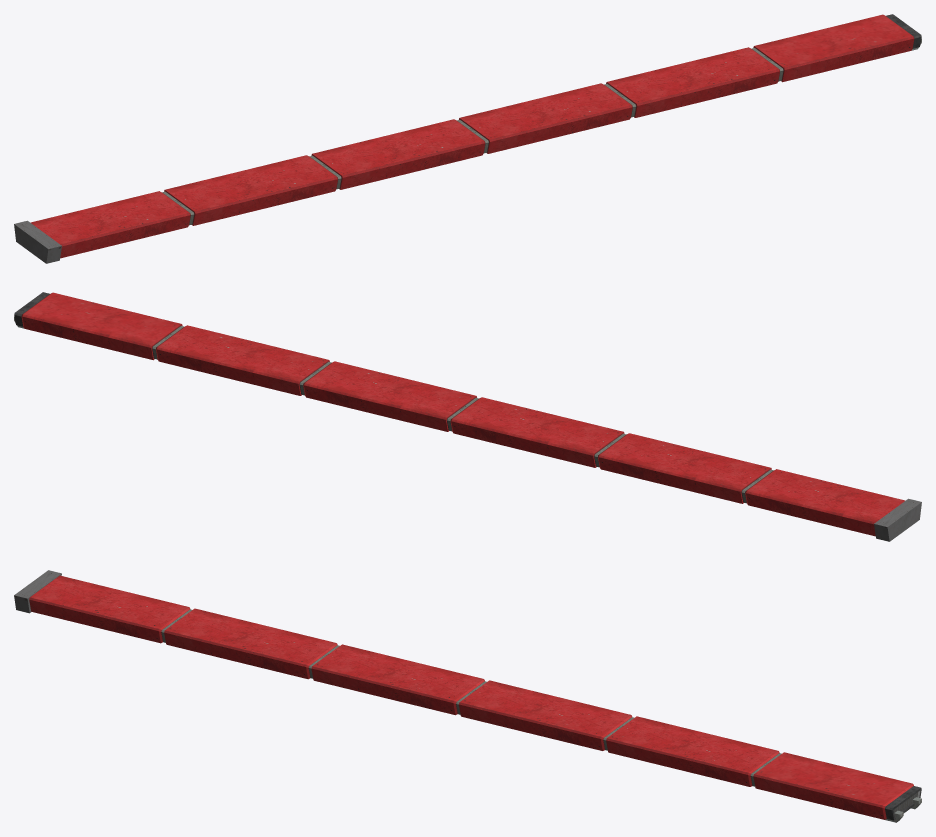
The model's file is Ob_StationRoof2_RC.fbx.
The picture shows the model from 3 angles, top to bottom: view 1: azimuth 30°, elevation 25°; view 2: azimuth 150°, elevation 25°; view 3: azimuth 330°, elevation 25°; orthographic projection.
Visible parts, largest first — view 1: Ob_StationRoof2_RC; view 2: Ob_StationRoof2_RC; view 3: Ob_StationRoof2_RC.
Boxes of the visible parts, left/top/right/bottom form: Ob_StationRoof2_RC: left=14, top=14, right=921, bottom=263; Ob_StationRoof2_RC: left=14, top=292, right=921, bottom=541; Ob_StationRoof2_RC: left=14, top=570, right=921, bottom=822.
Size of the model in its own units: 27876 by 562 by 1890.
